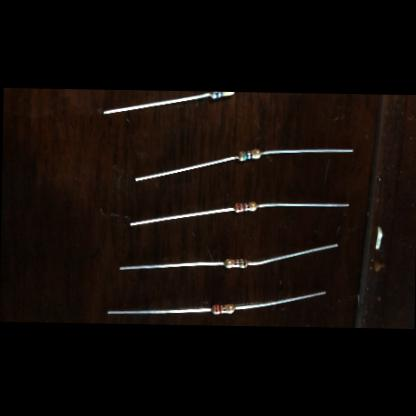resistor: (236, 148, 260, 161), (233, 200, 257, 212), (222, 258, 246, 268), (210, 304, 232, 314), (209, 92, 233, 98)
wire: (134, 152, 235, 183), (102, 90, 208, 116), (129, 206, 233, 228), (247, 242, 336, 267), (234, 290, 325, 312), (118, 260, 222, 272), (106, 306, 209, 316), (260, 146, 352, 156), (257, 202, 347, 209)
